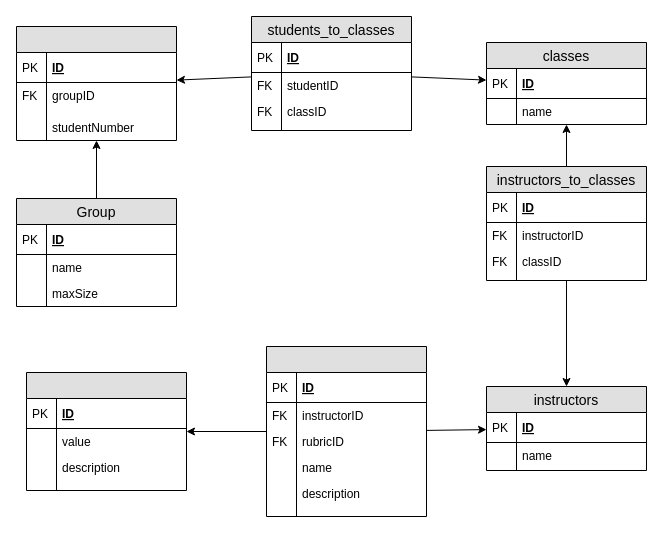
This 663x533 diagram has some shape labels left out. Each missing label, with the box of its shape:
items: (266, 346, 426, 516)
rubrics: (26, 372, 186, 490)
students: (16, 26, 176, 140)
